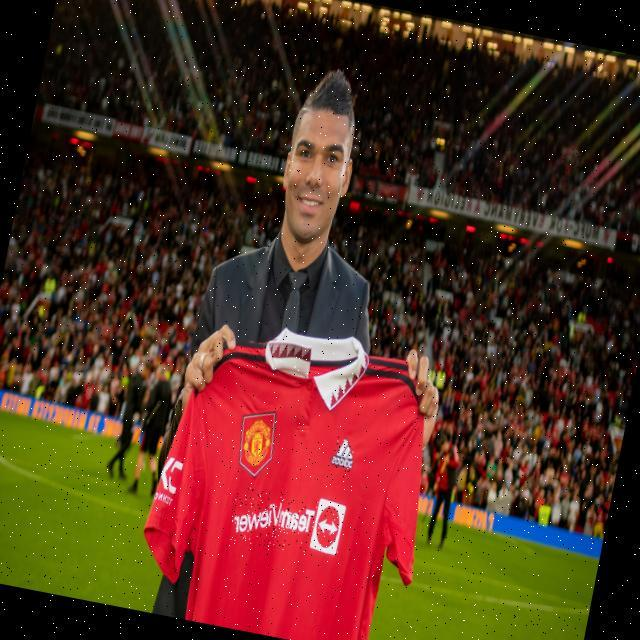Adidas: (329, 436, 357, 473)
TeamViewer: (227, 486, 347, 561)
